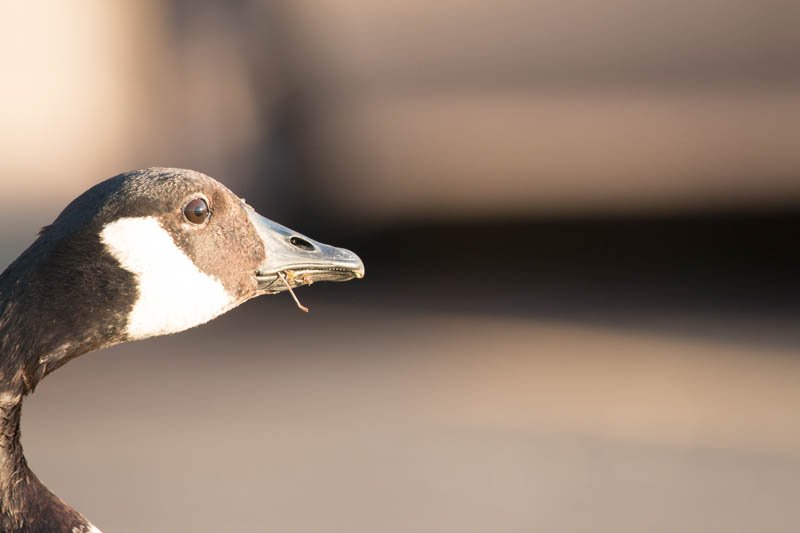goose-head: (39, 167, 366, 348)
